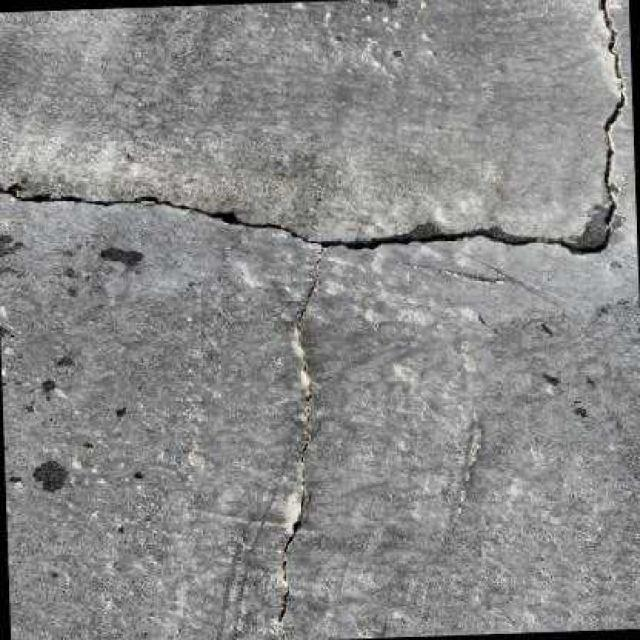D00: (6, 0, 631, 636)
